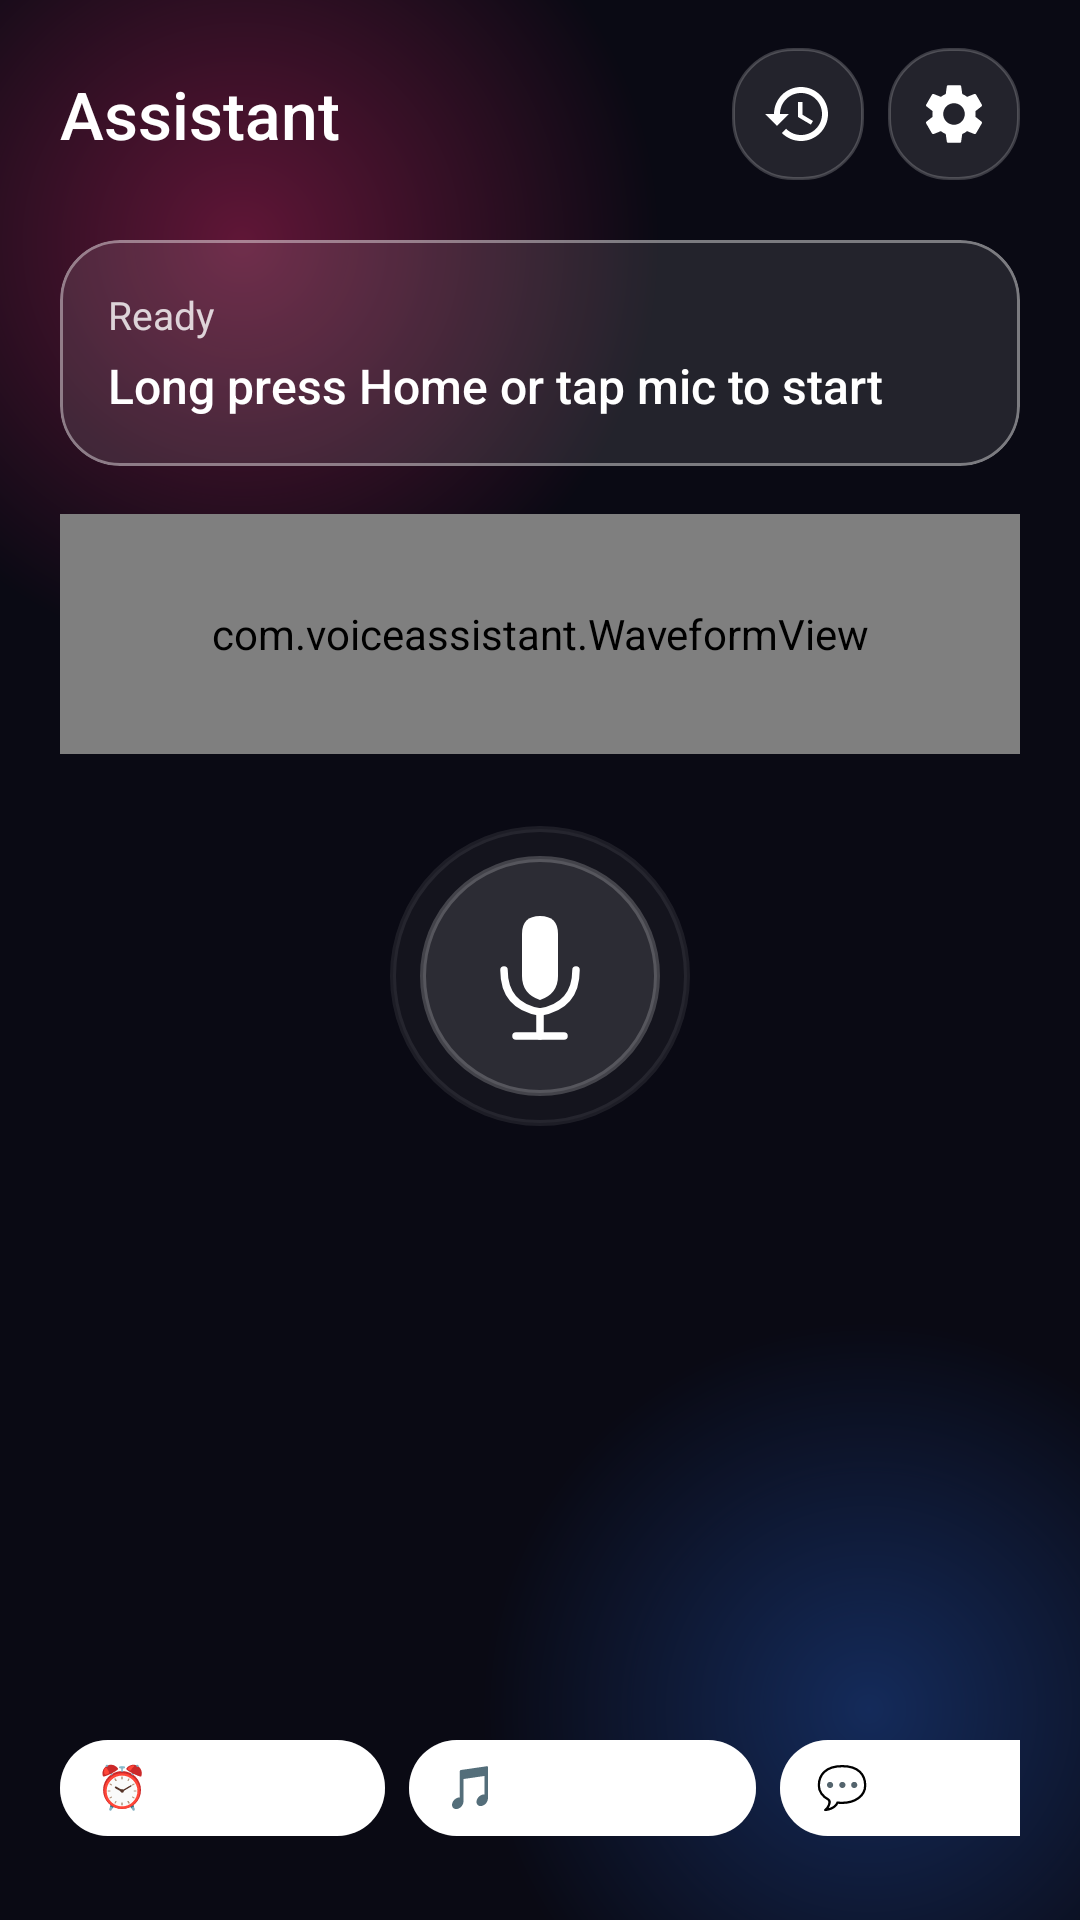

Named icons in this screenshot (1080x1920) and their centers, [x,y]:
history: [798,114]
mic: [540,976]
settings: [954,114]
